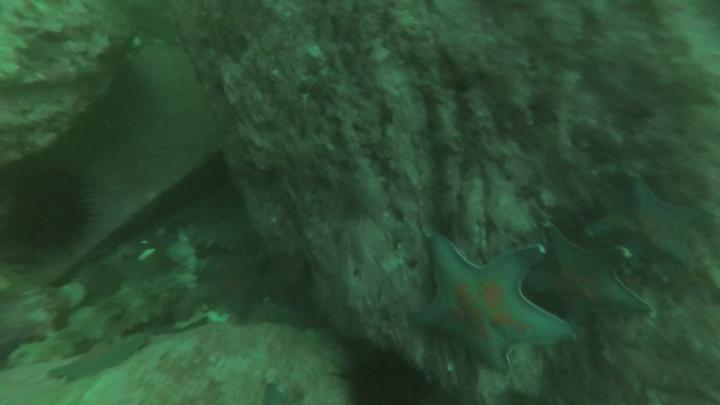echinus: (1, 156, 97, 261), (339, 341, 436, 405)
holothurian: (27, 273, 186, 363), (178, 215, 267, 255)
starfish: (405, 230, 571, 377), (527, 222, 657, 331), (585, 172, 704, 285), (48, 334, 148, 386)
